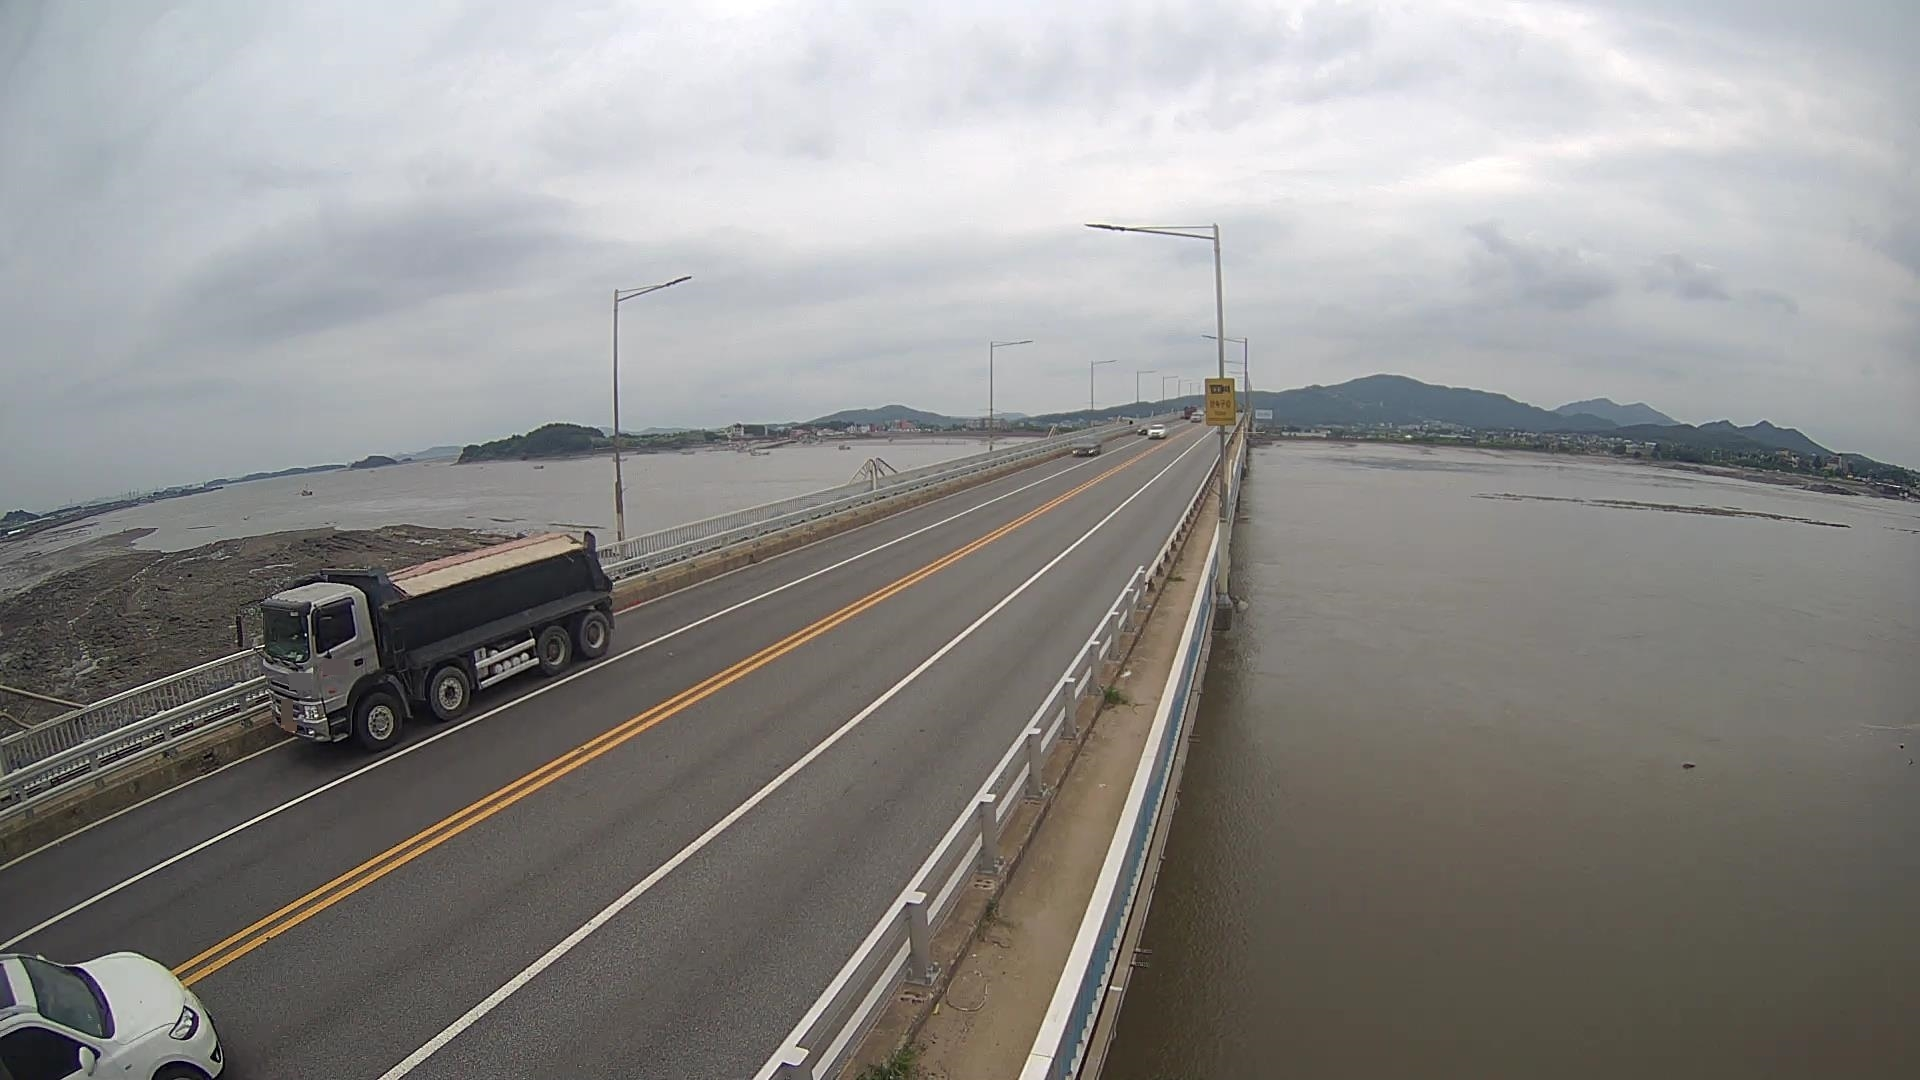정상차량: (236, 530, 613, 752)
